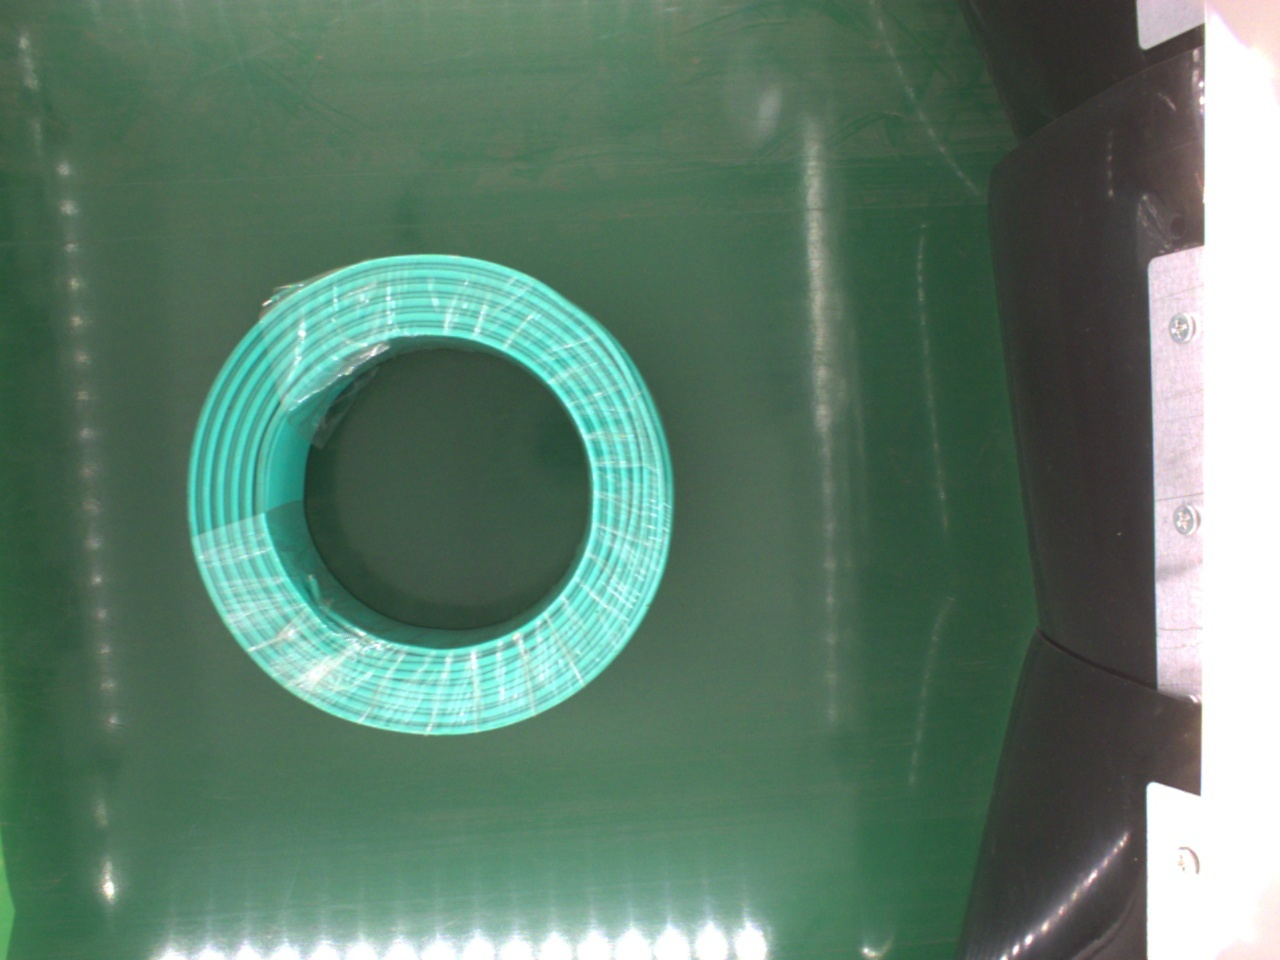green: (183, 254, 677, 738)
